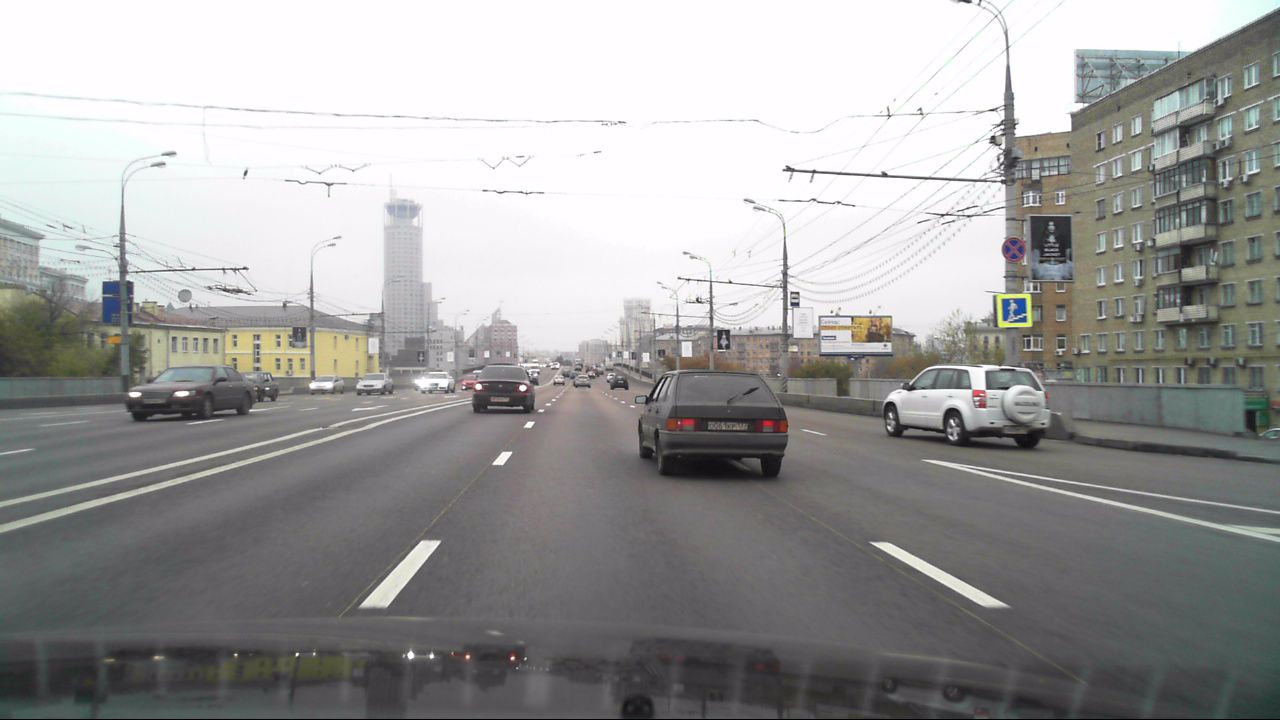No Parking: (1002, 237, 1027, 262)
